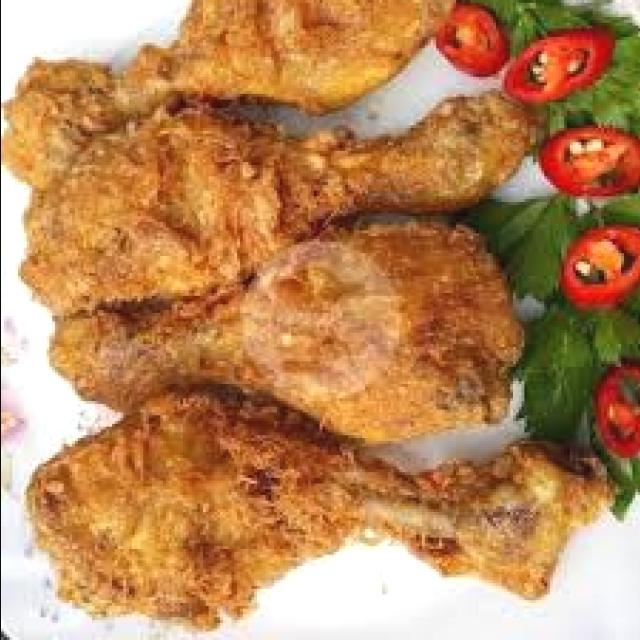ayam goreng: (23, 378, 626, 631), (20, 88, 538, 316)
